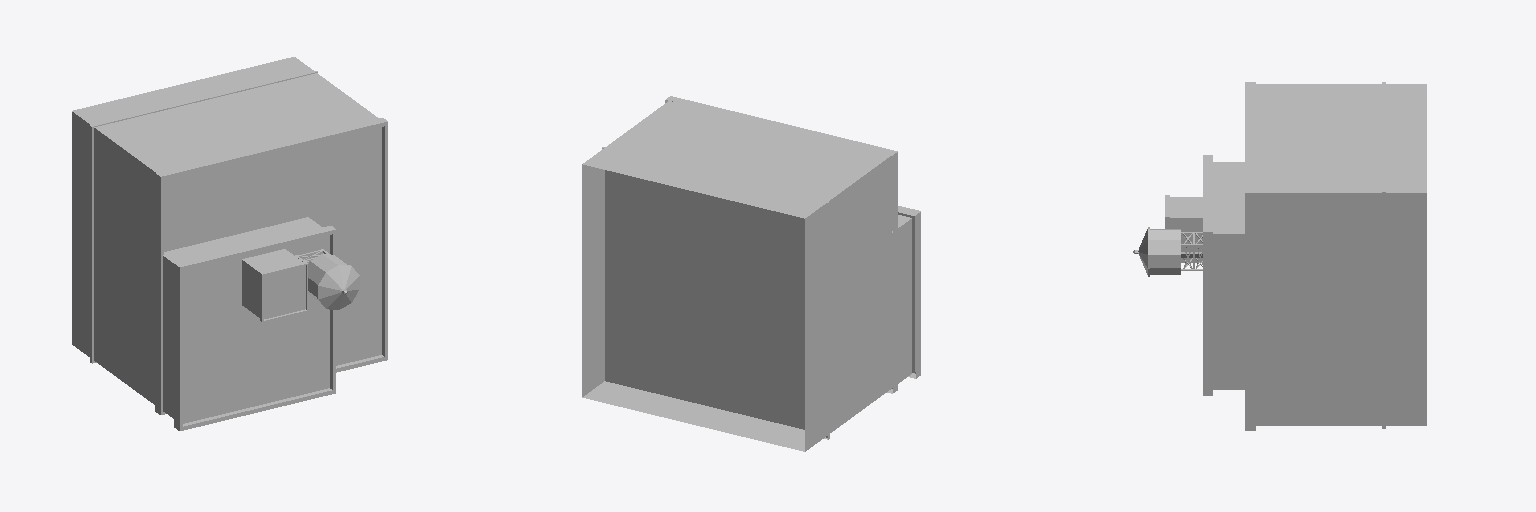
File: ccity_brown.obj
3 views of the same model, side by side, from view 1: azimuth 30°, elevation 25°; view 2: azimuth 150°, elevation 25°; view 3: azimuth 270°, elevation 25° (orthographic).
Visible parts, largest first — view 1: pCube2.002; view 2: pCube2.002; view 3: pCube2.002.
Part boxes in pixels (x1,y1,x2,y2): pCube2.002: (72, 57, 387, 430); pCube2.002: (582, 96, 920, 451); pCube2.002: (1133, 82, 1426, 430).
Bounding box in the file's own units: 18.54 × 18.41 × 20.59.